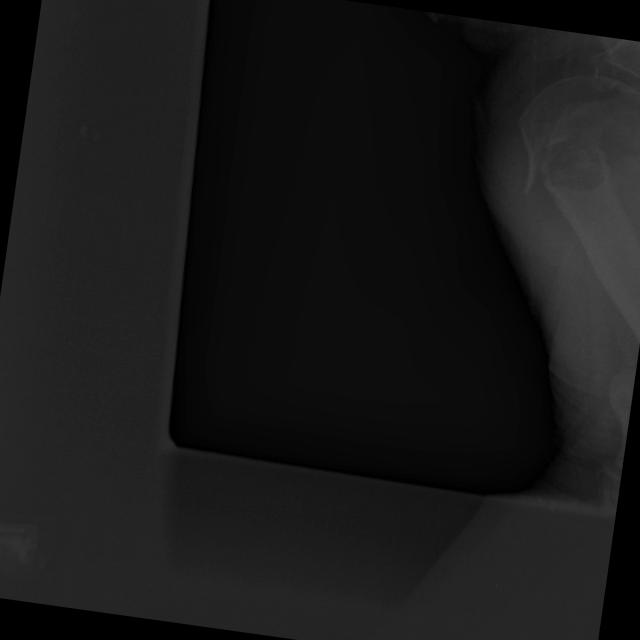shoulder fracture: (489, 132, 590, 220)
